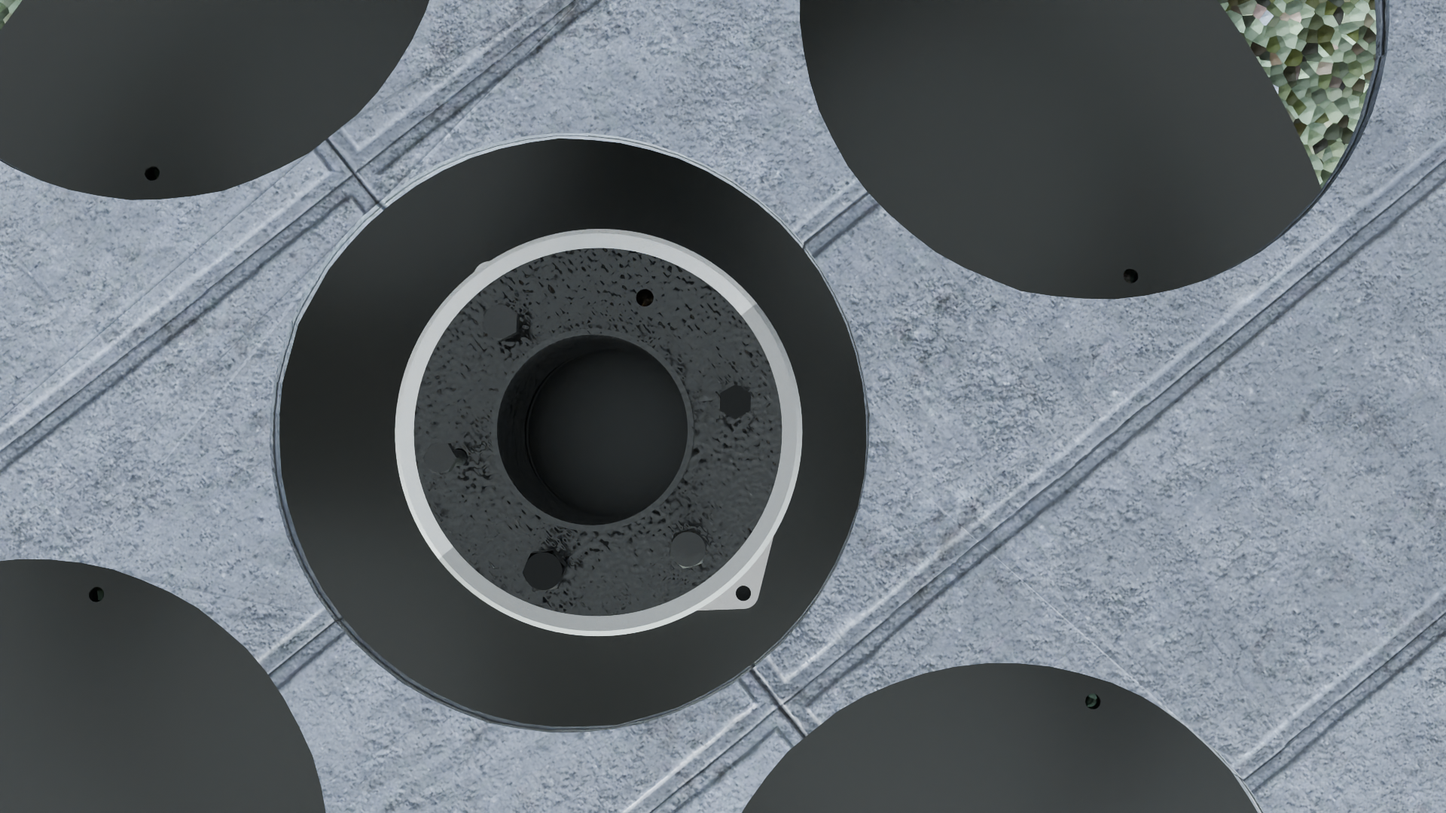bolt: (523, 550, 566, 591), (669, 529, 708, 568), (483, 303, 517, 341), (720, 385, 751, 419), (423, 443, 456, 473)
